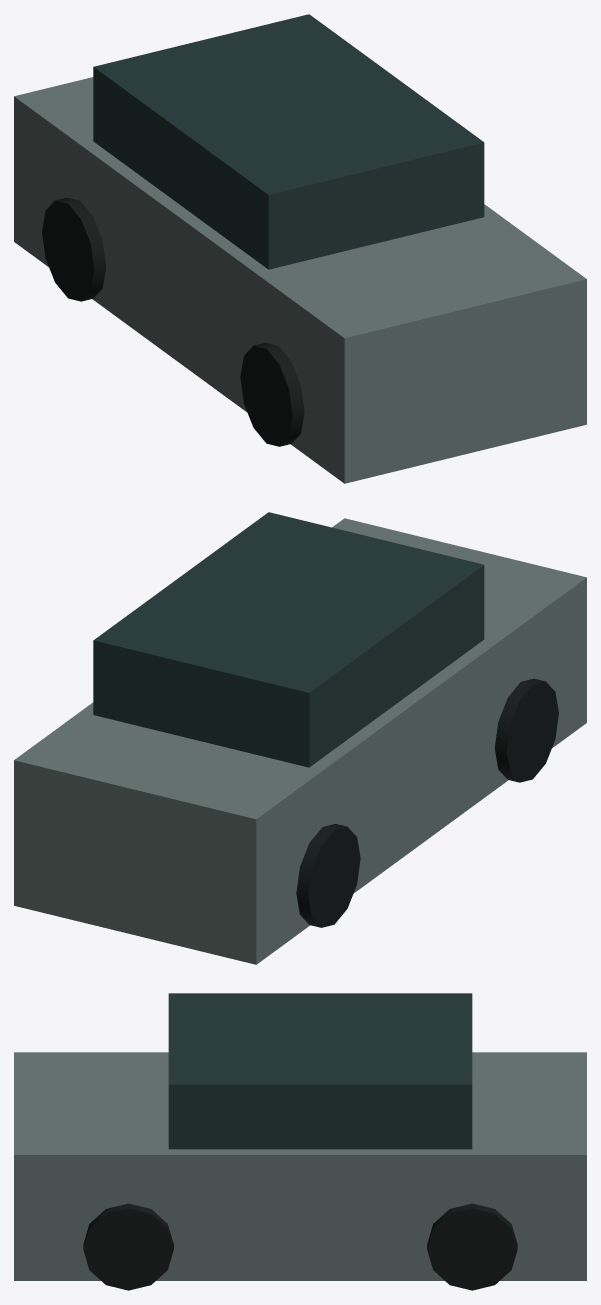
File: car-suv.glb
3 views of the same model, one above another, from view 1: azimuth 30°, elevation 25°; view 2: azimuth 150°, elevation 25°; view 3: azimuth 270°, elevation 25° (orthographic). The views are drawn at different scales.
Parts seen in each view (by area): view 1: car-suv; view 2: car-suv; view 3: car-suv.
Boxes of the visible parts, box(x1,y1,x2,y2) form: car-suv: box(14, 14, 586, 483); car-suv: box(14, 512, 586, 964); car-suv: box(14, 993, 586, 1290).
Size of the model in its own units: 2 by 1.62 by 4.3.
